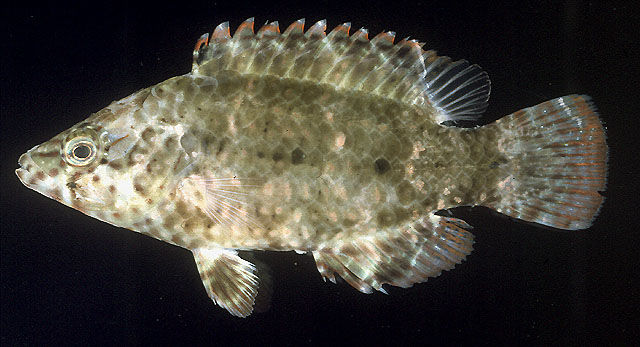fish: (16, 17, 610, 320)
